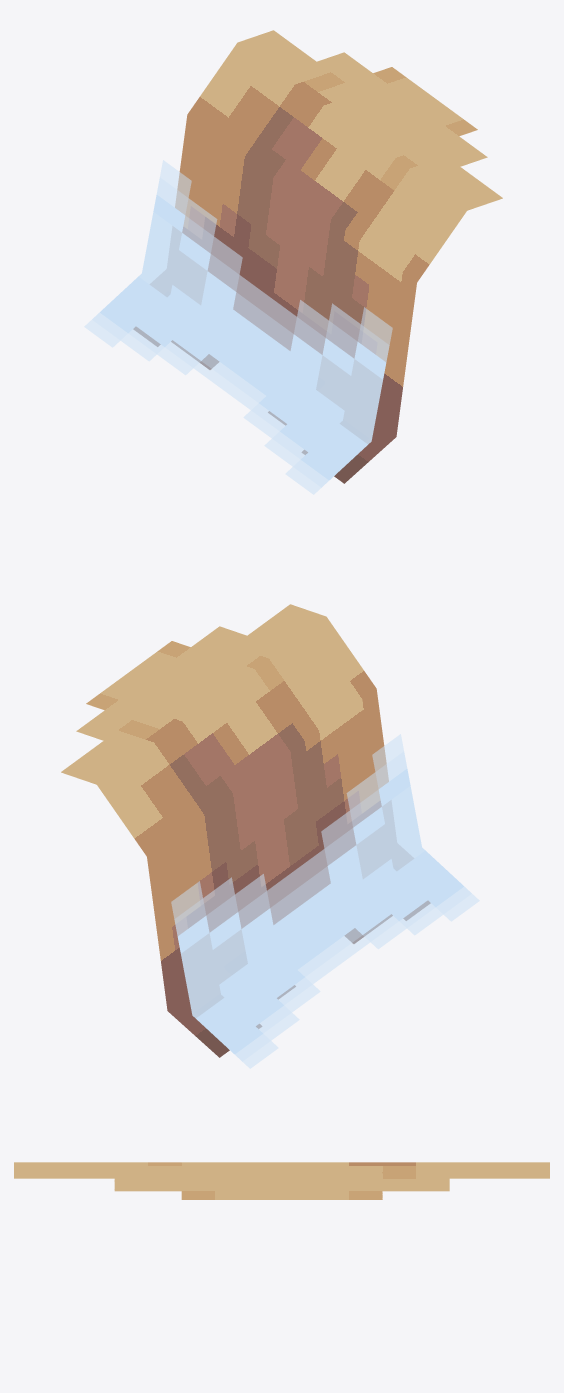
The picture shows the model from 3 angles, top to bottom: view 1: azimuth 30°, elevation 25°; view 2: azimuth 150°, elevation 25°; view 3: azimuth 270°, elevation 25°; orthographic projection. The views are drawn at different scales.
Size of the model in its own units: 0.7695 by 0.7266 by 1.
Materials: 2 (2 with a texture image).
